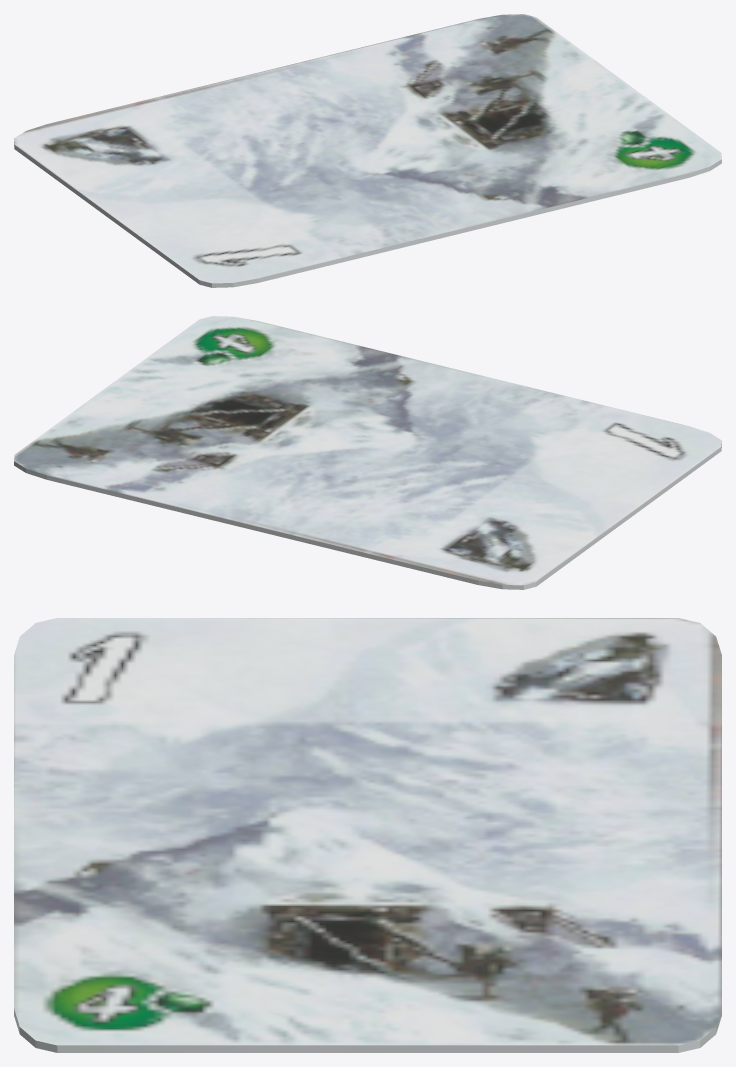
The picture shows the model from 3 angles, top to bottom: view 1: azimuth 30°, elevation 25°; view 2: azimuth 150°, elevation 25°; view 3: azimuth 270°, elevation 25°; orthographic projection. The views are drawn at different scales.
Parts seen in each view (by area): view 1: Card1; view 2: Card1; view 3: Card1.
Part boxes in pixels (x1=…): Card1: x1=14, y1=14, x2=721, y2=287; Card1: x1=14, y1=316, x2=721, y2=589; Card1: x1=14, y1=618, x2=721, y2=1052.
Bounding box in the file's own units: 700 × 5.74 × 490.
